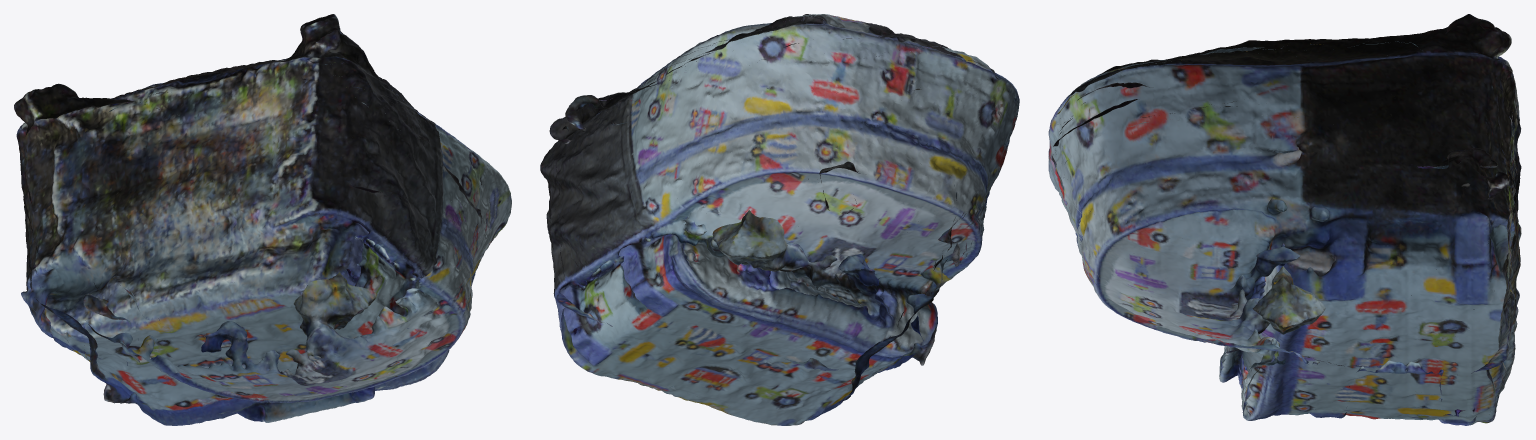
Rendered from backpack.glb.
The picture shows the model from 3 angles, left to right: view 1: azimuth 30°, elevation 25°; view 2: azimuth 150°, elevation 25°; view 3: azimuth 270°, elevation 25°; orthographic projection. The views are drawn at different scales.
Bounding box in the file's own units: 0.9064 × 0.6696 × 1.
